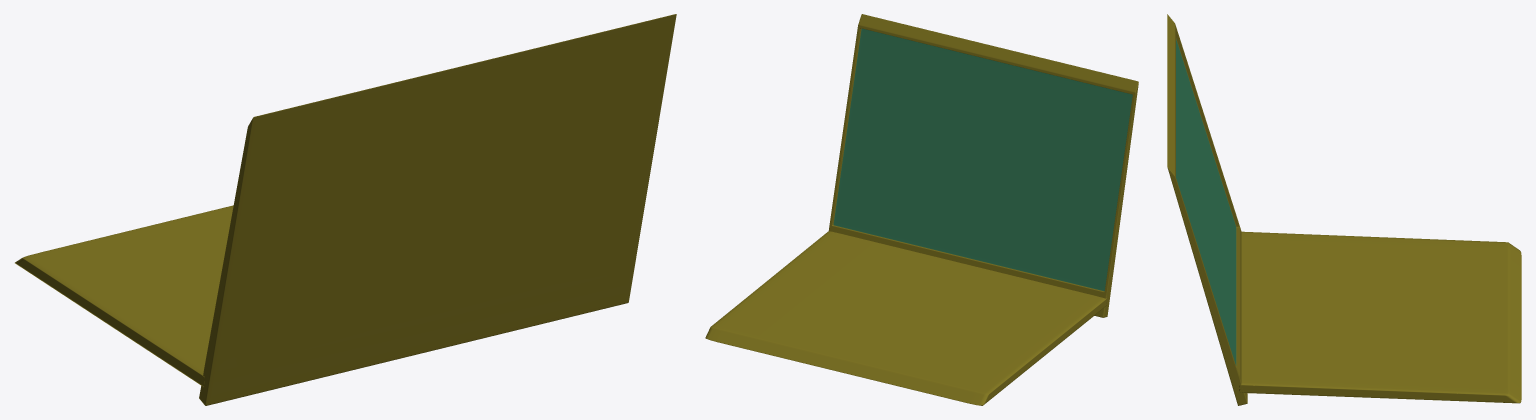
File: Laptop.fbx
The picture shows the model from 3 angles, left to right: view 1: azimuth 30°, elevation 25°; view 2: azimuth 150°, elevation 25°; view 3: azimuth 270°, elevation 25°; orthographic projection. The views are drawn at different scales.
Visible parts, largest first — view 1: Laptop; view 2: Laptop (×2); view 3: Laptop (×2).
Part boxes in pixels (x1,y1,x2,y2): Laptop: [15, 14, 676, 405]; Laptop (×2): [705, 14, 1138, 405]; Laptop (×2): [1167, 14, 1521, 405].
Size of the model in its own units: 1.61 by 1.18 by 1.58.
